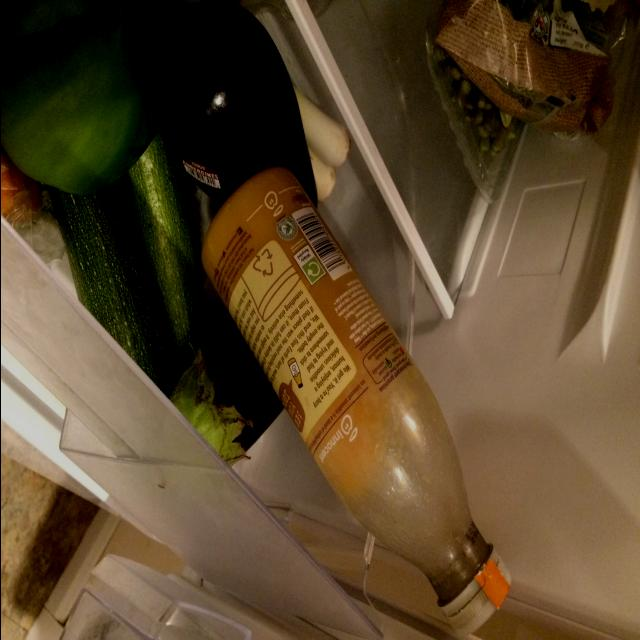Clear plastic bottle: (200, 166, 512, 638)
Disposable food container: (425, 0, 525, 203)
Plastic bottle cap: (446, 556, 512, 638)
Plastic film: (432, 0, 640, 141)
